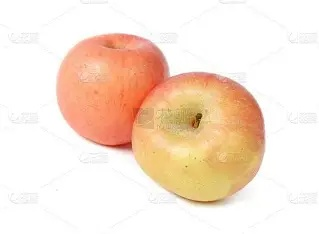ripe_apple: (132, 72, 267, 201), (132, 73, 266, 202), (57, 32, 168, 145), (57, 33, 168, 145)
